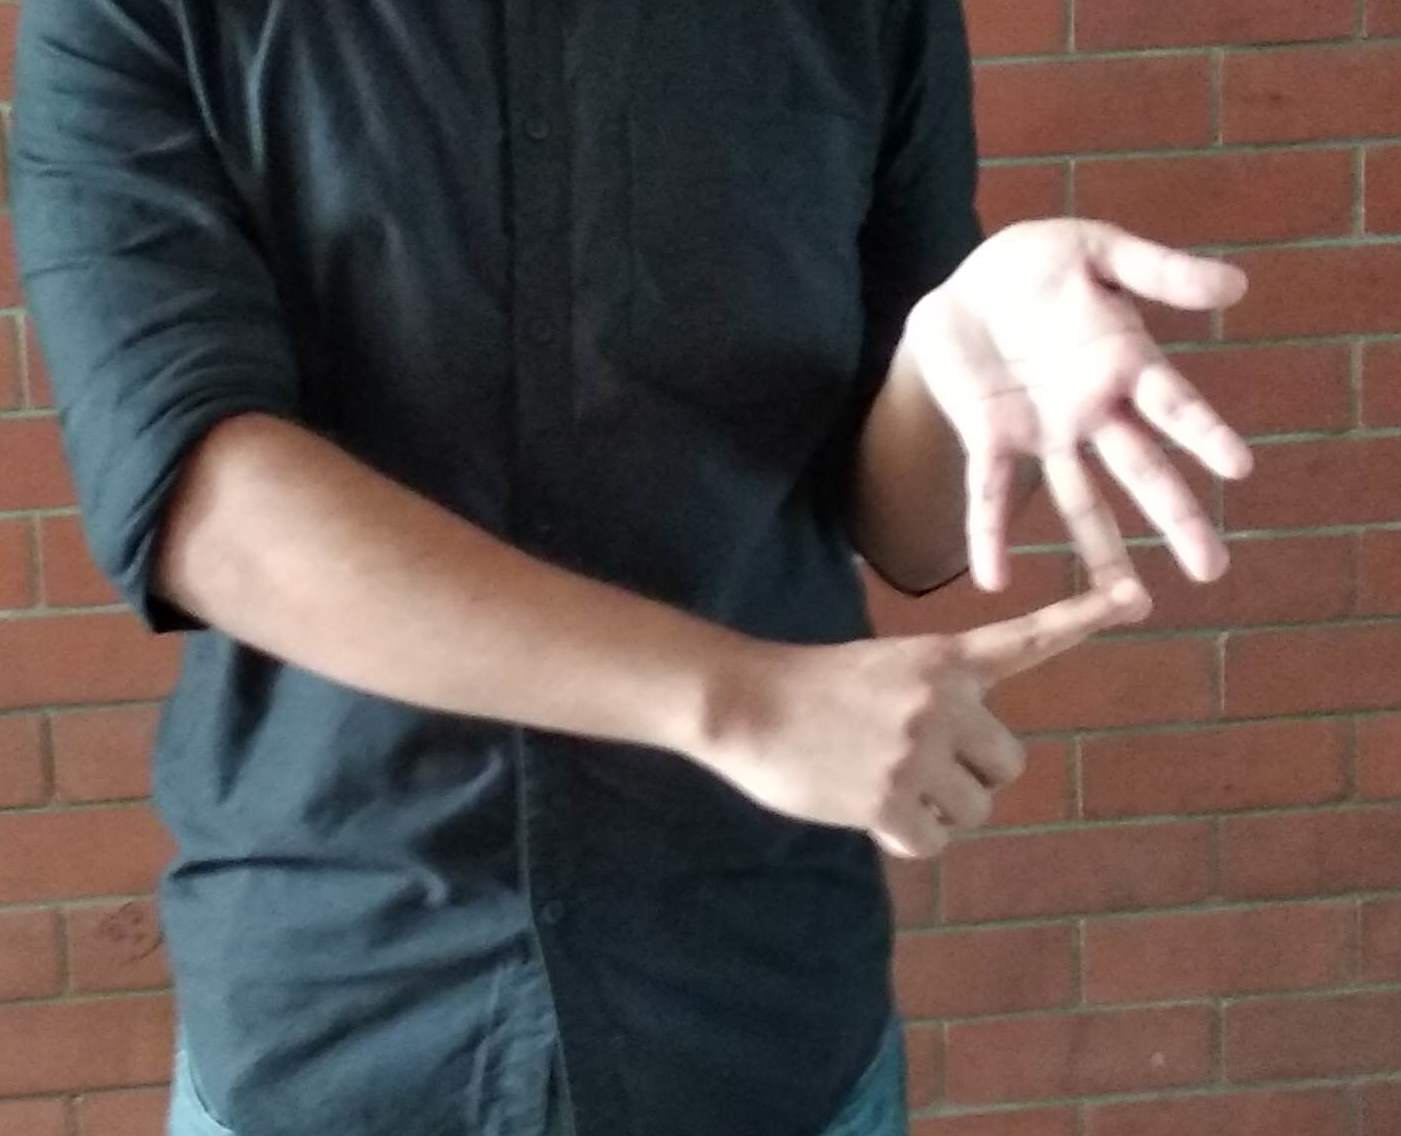e: (849, 202, 1258, 873)
